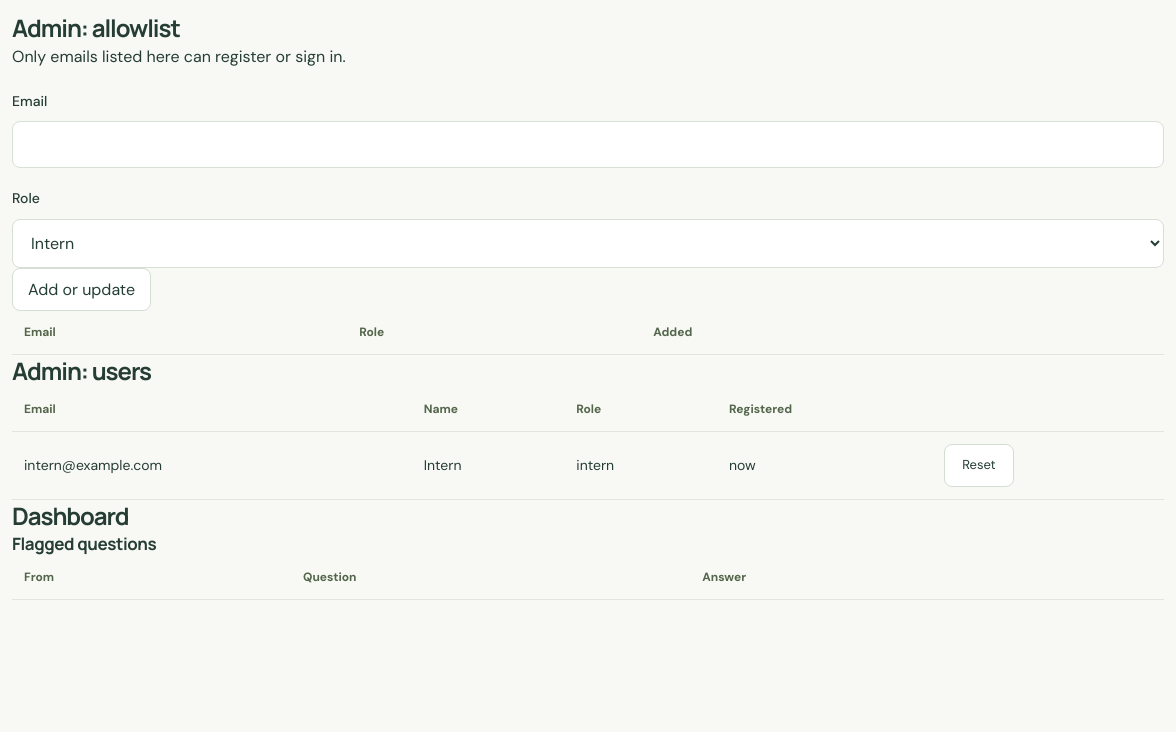
Scenario: AdminPanel › resets a user after confirmation and reloads the list
The image size is (1176, 732).
Expected: the text "intern@example.com" is shown, [12,431,412,499]
Click the button "Reset" at [979, 465], box [944,444,1014,487]
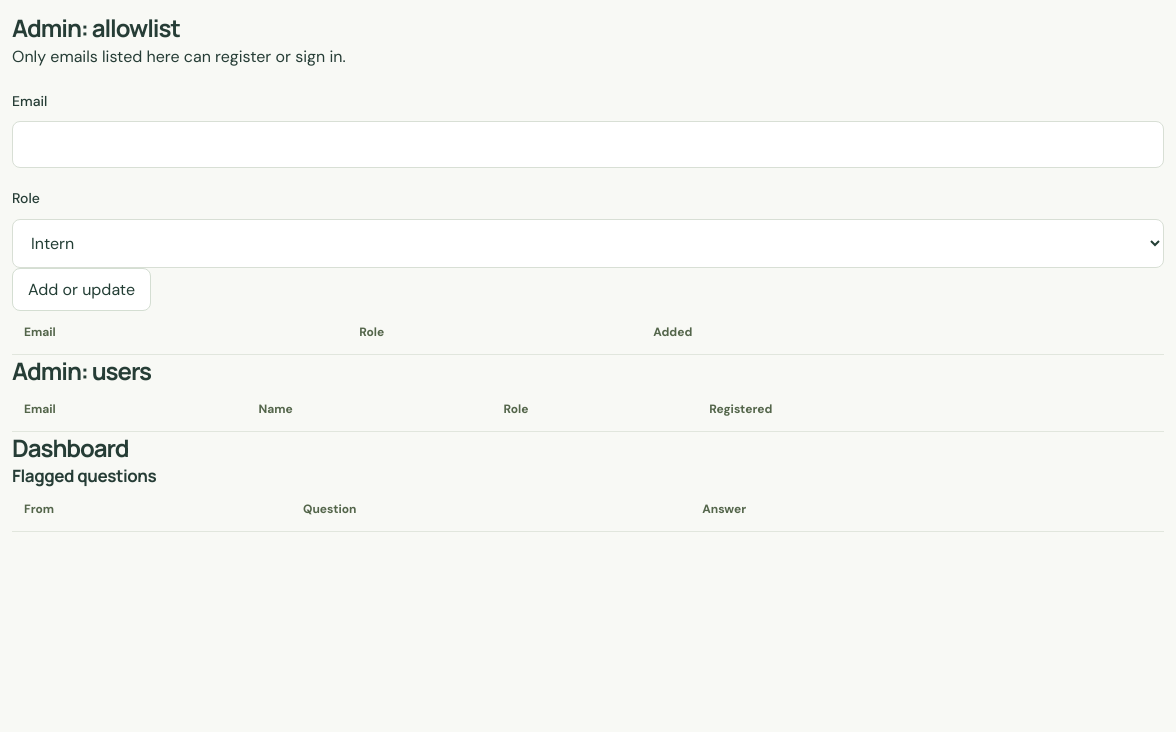
Result: the text "intern@example.com" is gone
